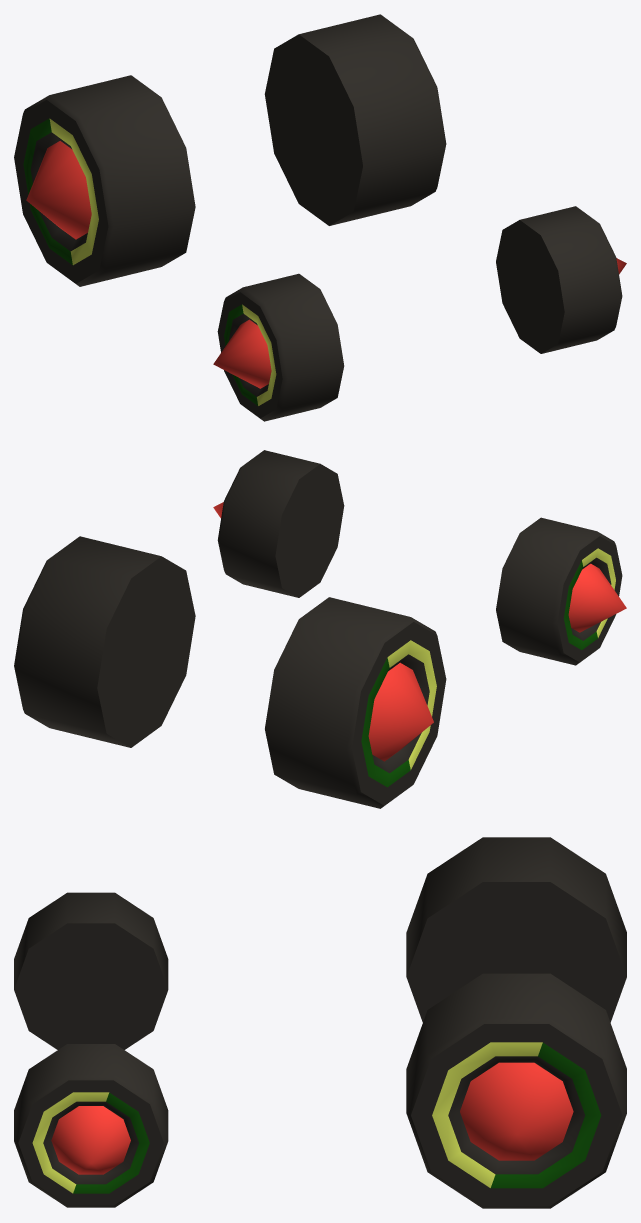
File: LuxWheel00R02.gltf
3 views of the same model, one above another, from view 1: azimuth 30°, elevation 25°; view 2: azimuth 150°, elevation 25°; view 3: azimuth 270°, elevation 25° (orthographic). The views are drawn at different scales.
Parts seen in each view (by area): view 1: LuxWheel00R02; view 2: LuxWheel00R02; view 3: LuxWheel00R02.
Boxes of the visible parts, box(x1,y1,x2,y2) form: LuxWheel00R02: box(14, 14, 626, 421); LuxWheel00R02: box(14, 450, 626, 808); LuxWheel00R02: box(14, 837, 626, 1208).
Bounding box in the file's own units: 0.2379 × 0.0932 × 0.2723.
